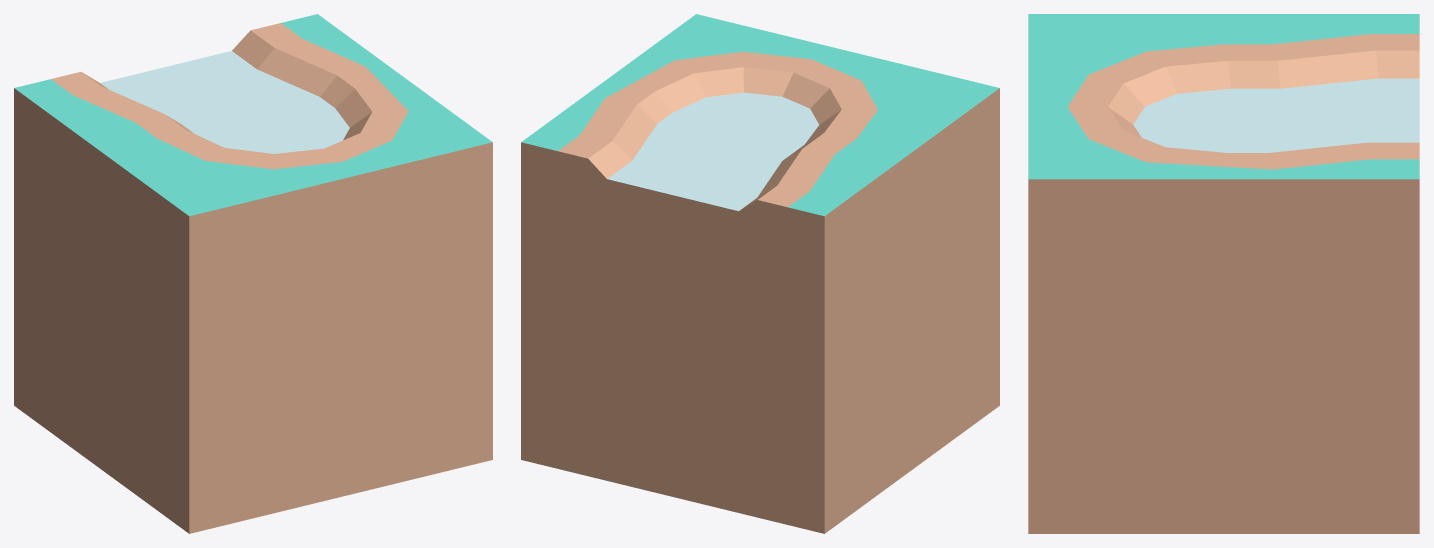
File: blockRiverEnd.fbx
3 views of the same model, side by side, from view 1: azimuth 30°, elevation 25°; view 2: azimuth 150°, elevation 25°; view 3: azimuth 270°, elevation 25° (orthographic). The views are drawn at different scales.
Parts seen in each view (by area): view 1: blockRiverEnd; view 2: blockRiverEnd; view 3: blockRiverEnd.
Boxes of the visible parts, x1,y1,x2,y2 form: blockRiverEnd: [14, 14, 492, 533]; blockRiverEnd: [521, 14, 999, 533]; blockRiverEnd: [1028, 14, 1419, 533].
Size of the model in its own units: 100 by 100 by 100.
